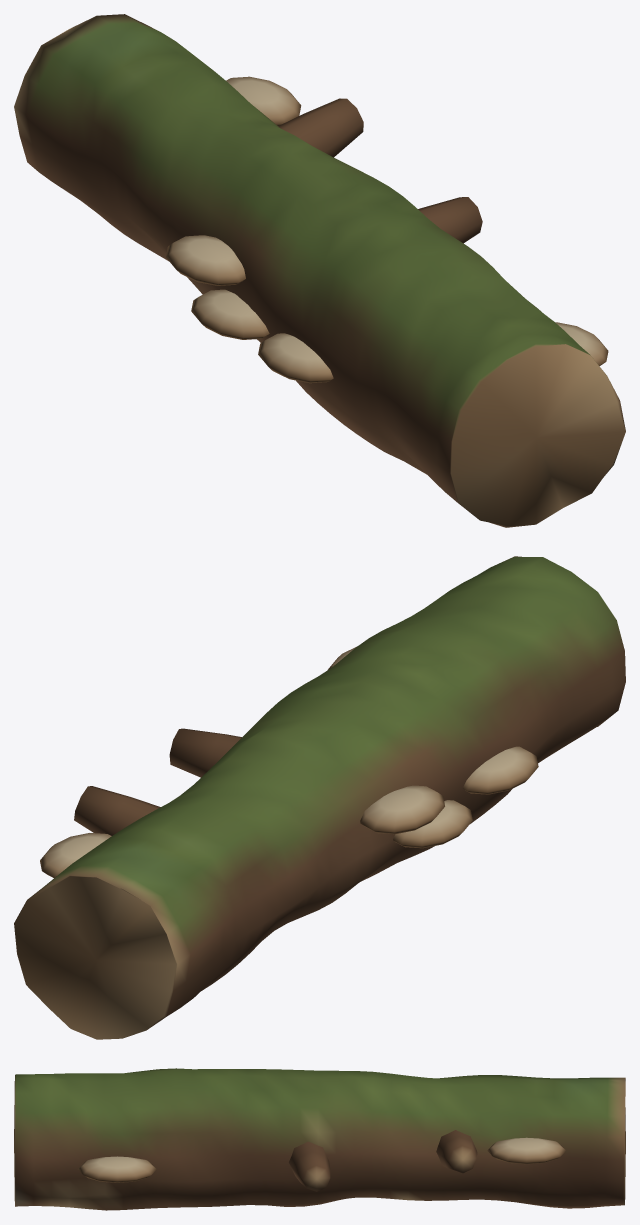
File: Night_RotLog.fbx
3 views of the same model, one above another, from view 1: azimuth 30°, elevation 25°; view 2: azimuth 150°, elevation 25°; view 3: azimuth 270°, elevation 25° (orthographic). The views are drawn at different scales.
Visible parts, largest first — view 1: Night_RotLog; view 2: Night_RotLog; view 3: Night_RotLog.
Boxes of the visible parts, x1,y1,x2,y2 form: Night_RotLog: (14,14,625,527); Night_RotLog: (14,556,625,1039); Night_RotLog: (14,1068,625,1210).
Bounding box in the file's own units: 7.35 × 4.77 × 20.12.
